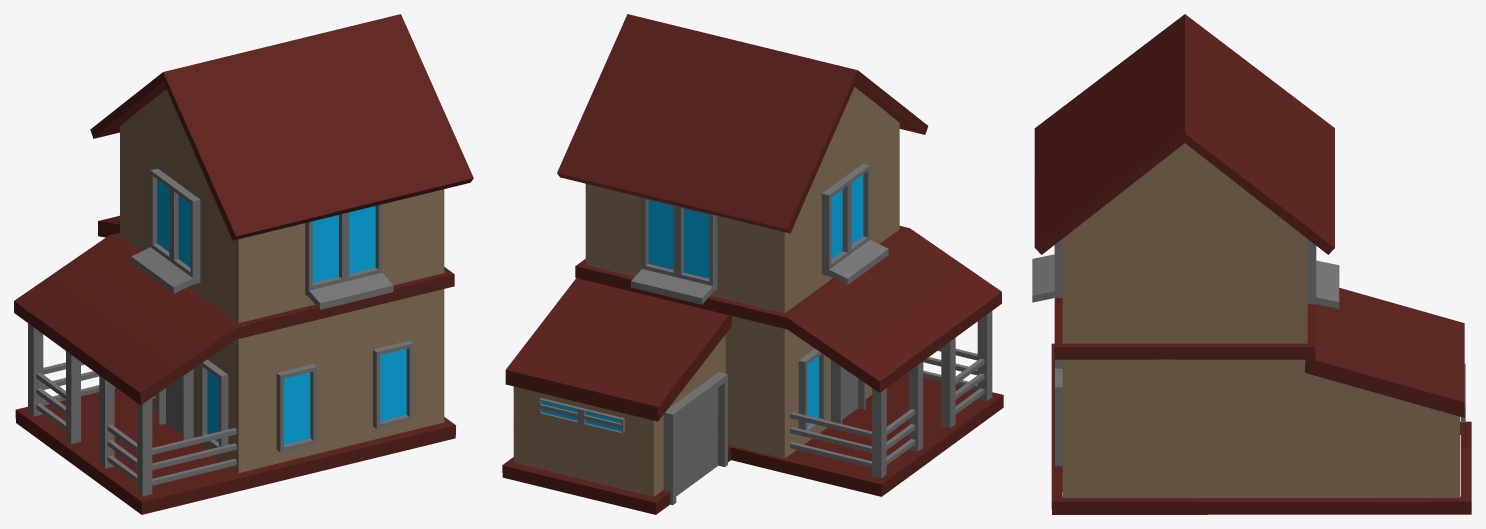
Rendered from BezhHouse.fbx.
3 renders of one model, left to right at view 1: azimuth 30°, elevation 25°; view 2: azimuth 150°, elevation 25°; view 3: azimuth 270°, elevation 25°, orthographic. The views are drawn at different scales.
Visible parts, largest first — view 1: Cube.016; view 2: Cube.016; view 3: Cube.016.
Boxes of the visible parts, bbox=[...] form: Cube.016: bbox=[14, 14, 473, 514]; Cube.016: bbox=[502, 14, 1003, 514]; Cube.016: bbox=[1032, 14, 1471, 514].
Bounding box in the file's own units: 630 × 698 × 719.
